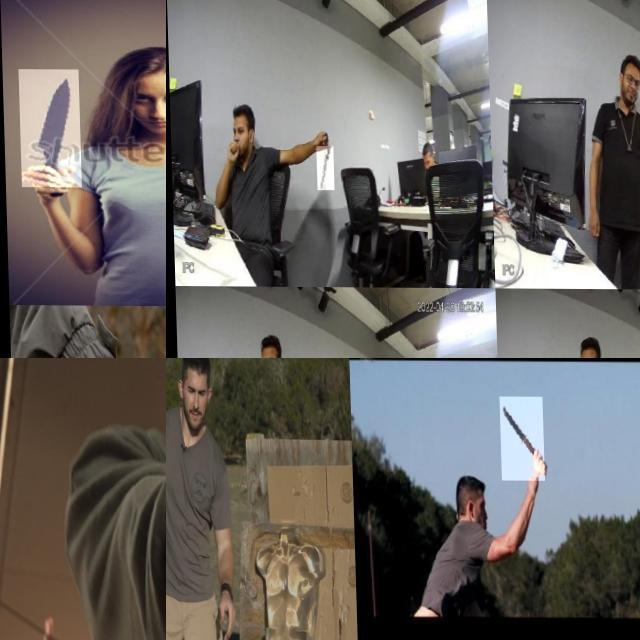-: (166, 358, 346, 520), (18, 69, 81, 188), (497, 396, 542, 480), (427, 358, 461, 390), (166, 501, 183, 554), (315, 146, 333, 190)
